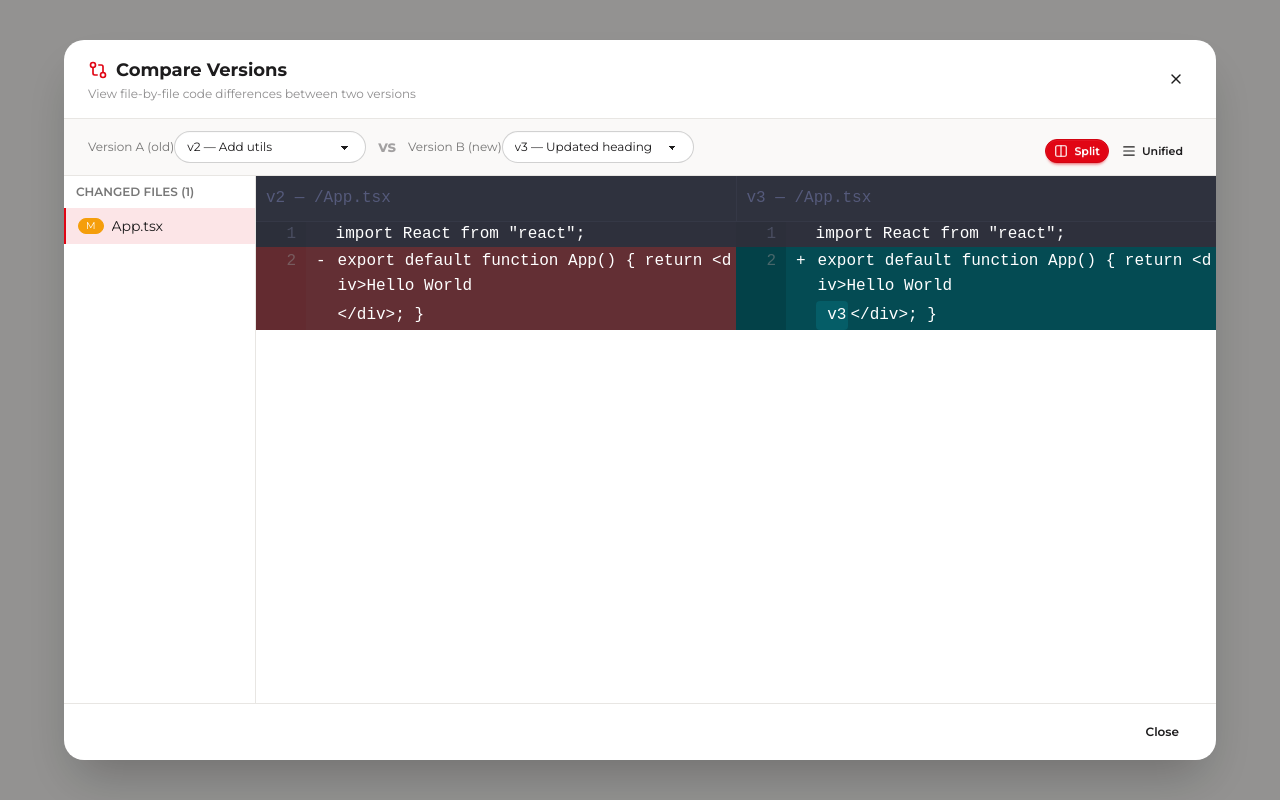
Test: VersionCompareModal › shows "No differences" message when same versions have identical code
Note: Select same version for A (already proto-2 by default), change B to proto-2
Select "v1 — Initial" in the dropdown with test id "version-a-select" at x=270, y=147, box 174,131 -> 366,163
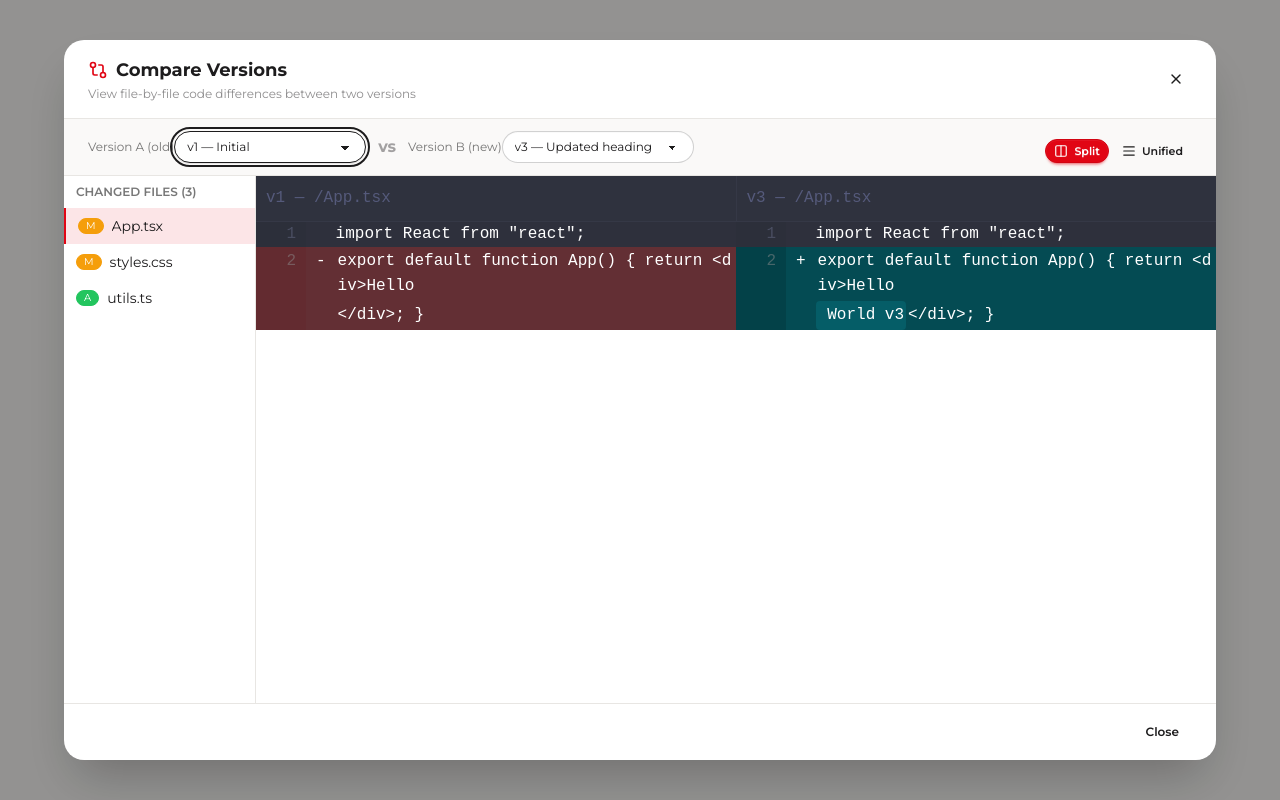
Select "v1 — Initial" in the dropdown with test id "version-b-select" at x=598, y=147, box 502,131 -> 694,163
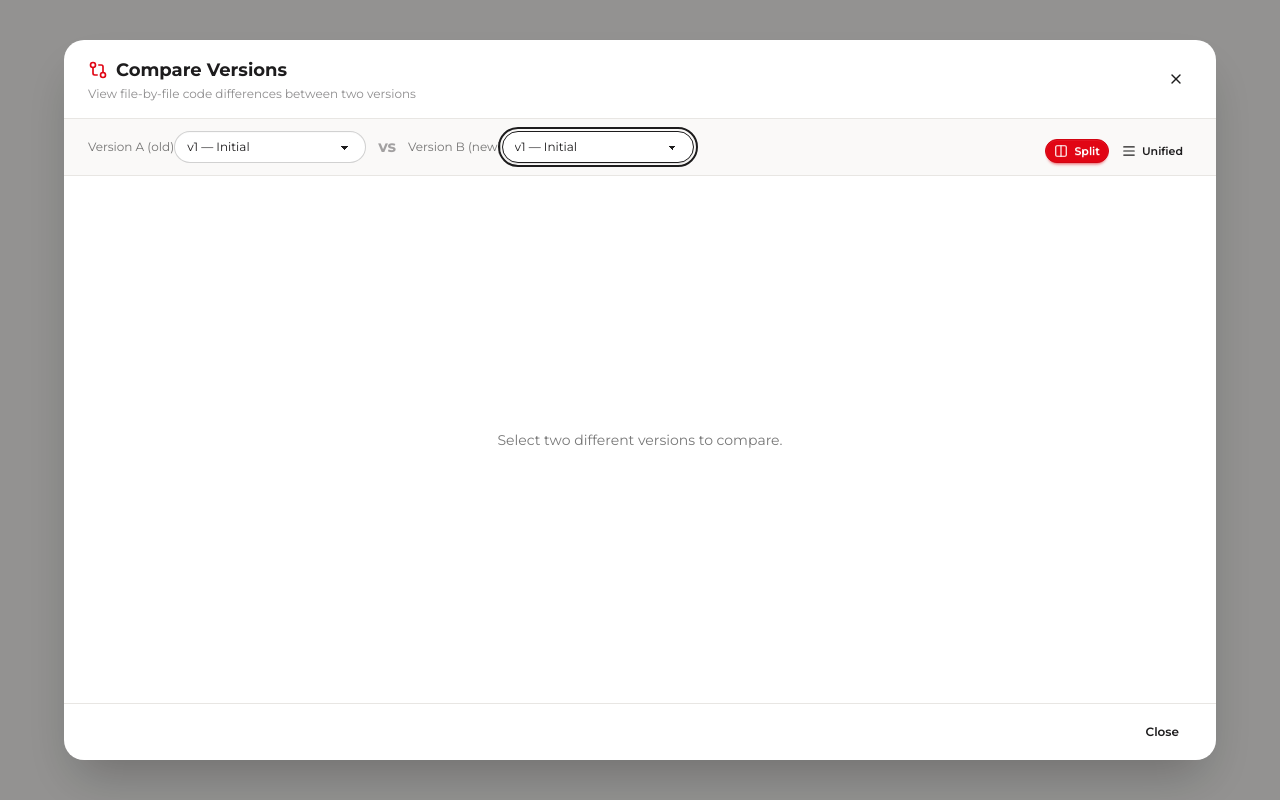
Expected: the text "Select two different versions to compare." is shown, 498,430 -> 783,450
